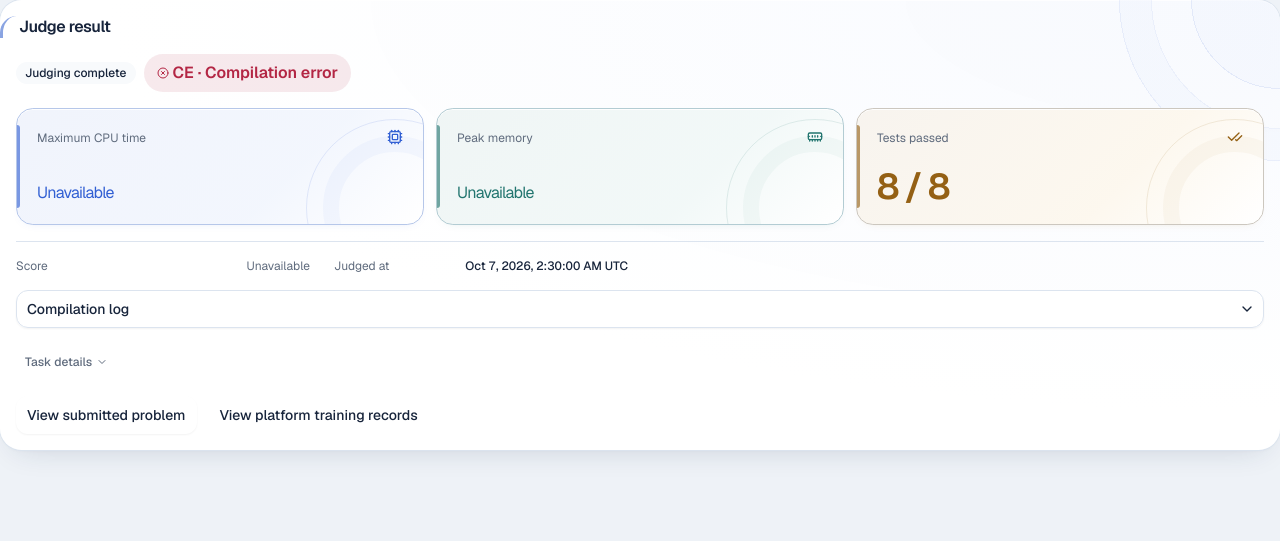
Test: platform judge evidence › uses unavailable values for resources not run and renders compile logs as text
Expected: the text "Unavailable" is shown 3 times, [37,182,114,203]; [457,182,534,203]; [246,258,310,274]
Click the button "Compilation log" at (78, 309), box [16,290,1264,328]
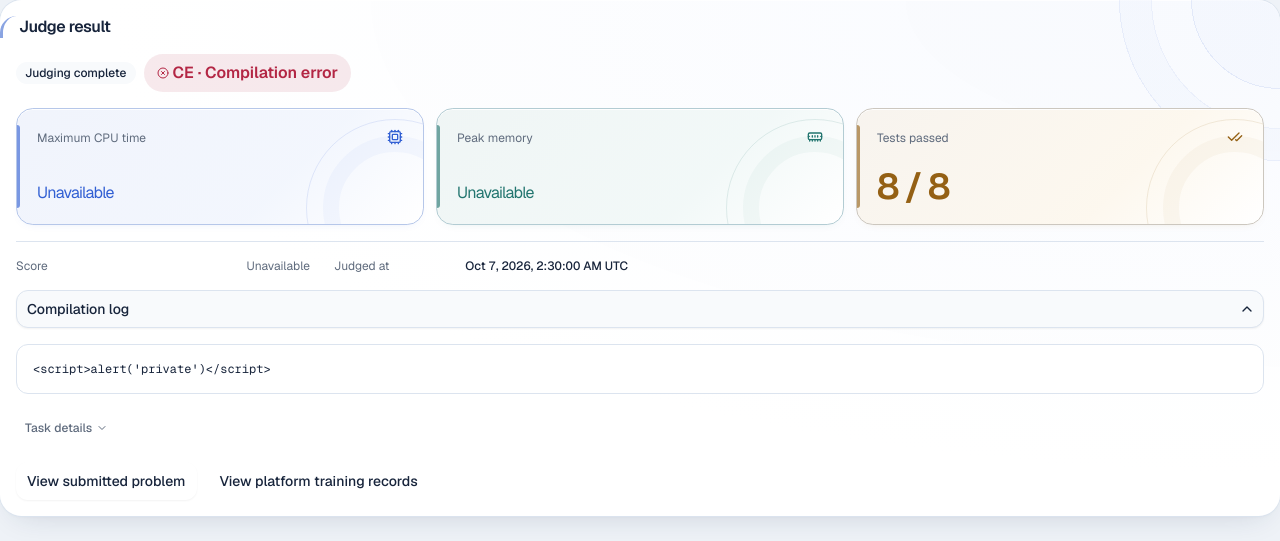
Result: the text named "Compilation log" reads "<script>alert('private')</script>" at [33,361,271,377]
